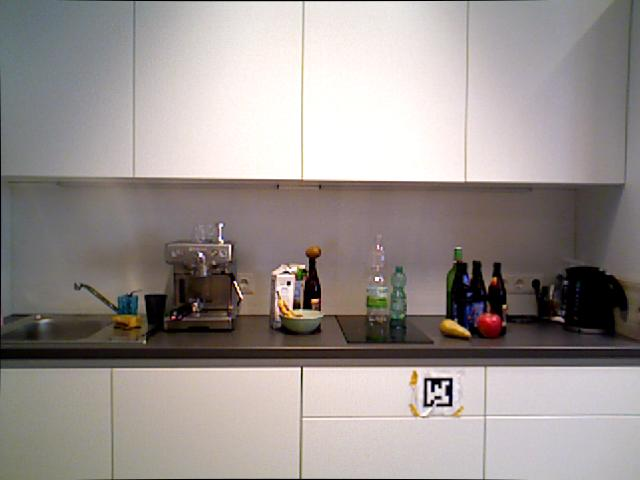bench: (365, 234, 389, 324), (267, 261, 297, 331), (302, 255, 326, 329), (283, 260, 308, 328), (487, 261, 507, 335), (445, 246, 464, 319), (451, 261, 471, 329), (469, 259, 487, 333), (389, 265, 407, 329)
bicycle: (477, 312, 502, 338)
bird: (279, 309, 323, 333)
couch: (0, 313, 116, 342)
handbag: (144, 293, 167, 328), (116, 294, 140, 322), (191, 221, 218, 245)
motorcycle: (274, 289, 304, 322)
